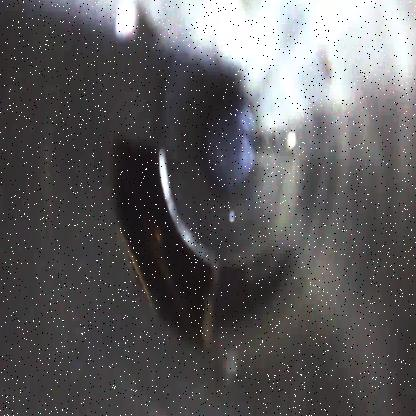Crack2: (108, 134, 218, 348)
